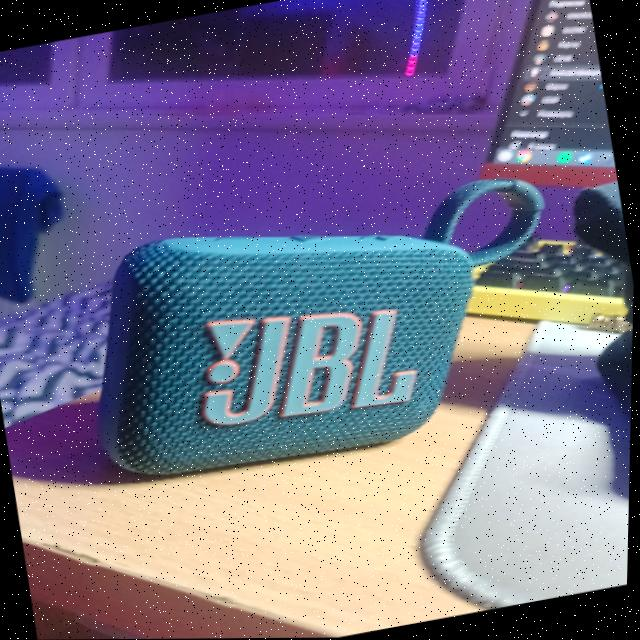column JBL: (101, 236, 474, 474), (101, 236, 423, 474)
